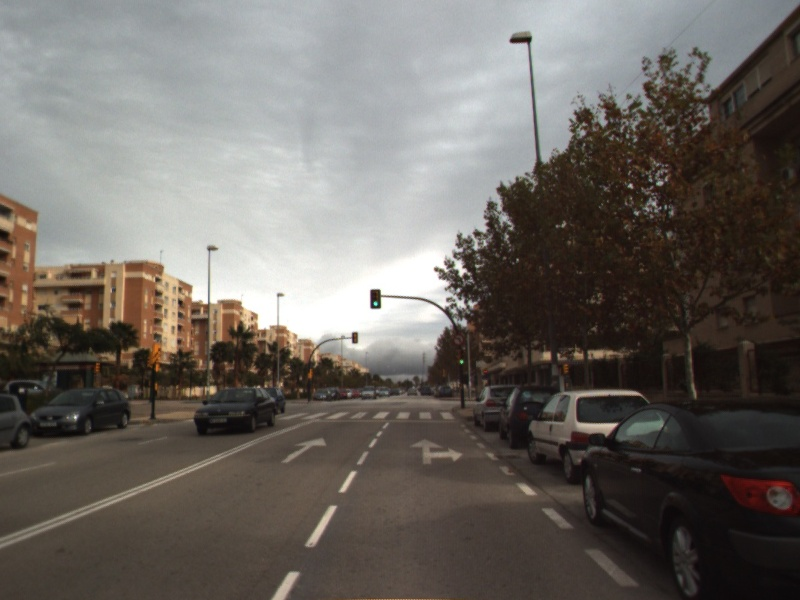STRAIGHT: (279, 435, 329, 465)
STRAIGHT_RIGHT: (408, 436, 465, 466)
